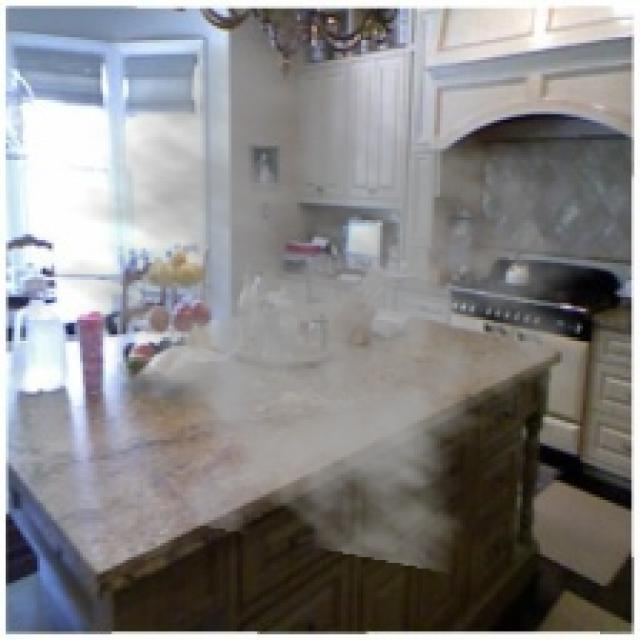smoke: (31, 34, 600, 574)
